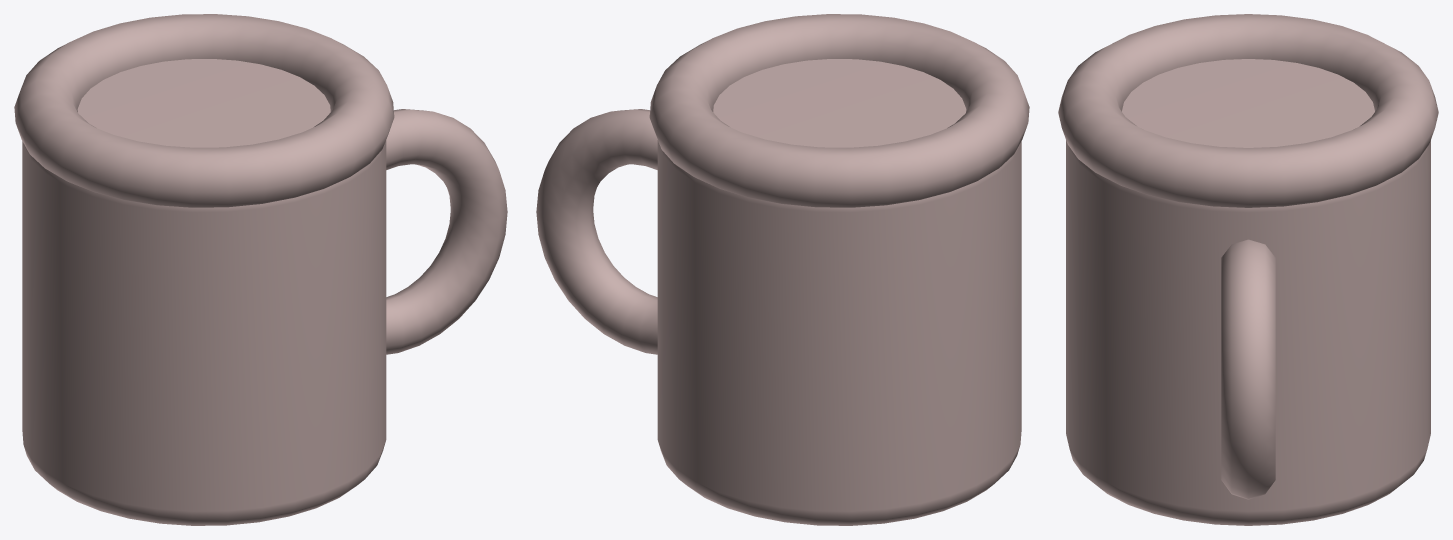
Rendered from japaneseBaseCup.glb.
The picture shows the model from 3 angles, left to right: view 1: azimuth 30°, elevation 25°; view 2: azimuth 150°, elevation 25°; view 3: azimuth 270°, elevation 25°; orthographic projection.
Parts seen in each view (by area): view 1: Cup, Cup rim, Handle; view 2: Cup, Cup rim, Handle; view 3: Cup, Cup rim, Handle.
Boxes of the visible parts, left/top/right/bottom form: Cup: left=22, top=59, right=386, bottom=525; Cup rim: left=14, top=14, right=394, bottom=207; Handle: left=386, top=109, right=507, bottom=354; Cup: left=657, top=59, right=1021, bottom=525; Cup rim: left=649, top=14, right=1029, bottom=207; Handle: left=536, top=109, right=657, bottom=354; Cup: left=1066, top=59, right=1430, bottom=525; Cup rim: left=1058, top=14, right=1438, bottom=207; Handle: left=1221, top=239, right=1275, bottom=499.
Bounding box in the file's own units: 0.676 × 0.518 × 0.48.
